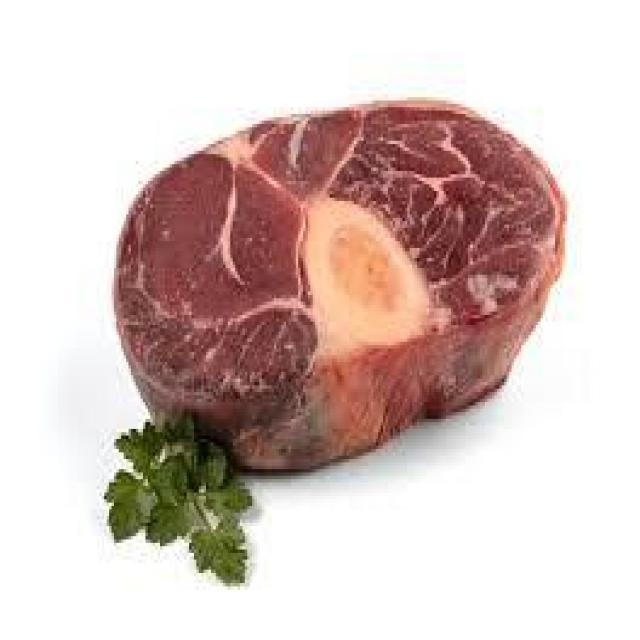beef: (85, 85, 608, 416)
